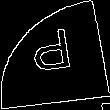P_S: (30, 27, 80, 83)
